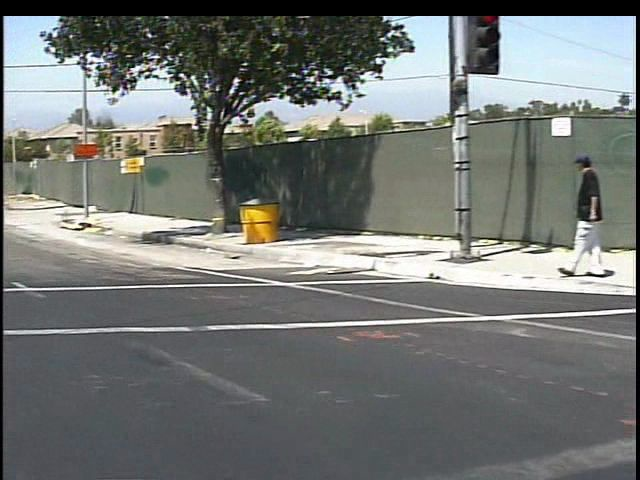person: (550, 145, 601, 288)
